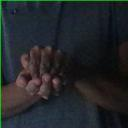hand: (20, 46, 77, 76), (16, 76, 75, 99)
